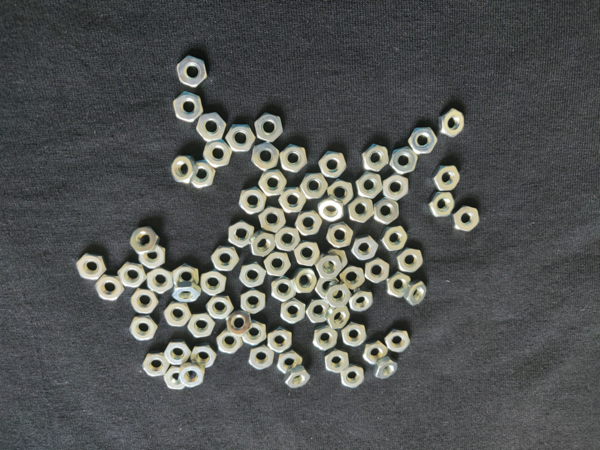nut: (177, 56, 209, 88), (429, 162, 462, 192), (314, 149, 348, 178), (248, 140, 279, 171), (235, 186, 266, 217), (173, 93, 205, 123), (196, 111, 226, 142), (128, 288, 161, 316), (390, 141, 417, 175), (224, 124, 254, 154), (256, 113, 284, 145), (280, 143, 309, 173), (408, 125, 438, 154), (381, 222, 407, 255), (129, 225, 158, 254), (382, 173, 411, 202), (93, 274, 124, 301), (257, 169, 289, 195), (220, 311, 252, 337), (422, 193, 456, 217), (397, 246, 426, 274), (203, 139, 231, 168), (298, 171, 327, 199), (228, 219, 256, 248), (146, 267, 175, 295), (209, 244, 239, 271), (440, 107, 465, 139), (129, 316, 158, 343), (342, 321, 369, 350), (363, 143, 390, 172), (203, 293, 232, 320), (238, 262, 266, 289), (265, 326, 292, 354), (372, 198, 400, 225), (365, 256, 392, 284), (76, 254, 105, 280), (262, 252, 291, 278), (296, 210, 322, 239), (350, 236, 379, 262), (257, 208, 287, 233), (114, 264, 148, 286), (161, 341, 192, 365), (454, 206, 481, 233), (200, 269, 227, 296), (322, 247, 349, 274), (347, 196, 375, 222), (278, 299, 306, 325), (161, 303, 190, 328), (326, 223, 355, 248), (172, 156, 197, 184), (312, 275, 340, 300), (356, 174, 385, 198), (329, 180, 355, 206), (294, 241, 320, 267), (142, 353, 169, 378), (217, 328, 242, 355), (277, 351, 302, 378), (341, 321, 366, 348), (141, 243, 165, 270), (279, 189, 307, 212), (248, 233, 276, 256), (312, 326, 335, 354), (384, 327, 409, 352), (349, 290, 374, 315), (242, 289, 266, 315), (179, 365, 205, 389), (188, 314, 214, 338), (248, 345, 274, 369), (244, 321, 270, 345), (319, 199, 343, 225), (327, 282, 351, 308), (305, 298, 328, 325), (315, 257, 343, 279), (275, 227, 300, 251), (194, 162, 217, 188), (284, 369, 310, 392), (160, 367, 187, 389), (325, 352, 349, 376), (386, 274, 410, 298), (174, 265, 200, 287), (272, 278, 294, 304), (294, 269, 316, 295), (342, 263, 364, 289), (341, 365, 364, 389), (374, 358, 396, 381), (172, 285, 200, 303), (192, 346, 216, 367), (362, 342, 383, 366), (330, 308, 350, 329), (409, 282, 426, 305)
